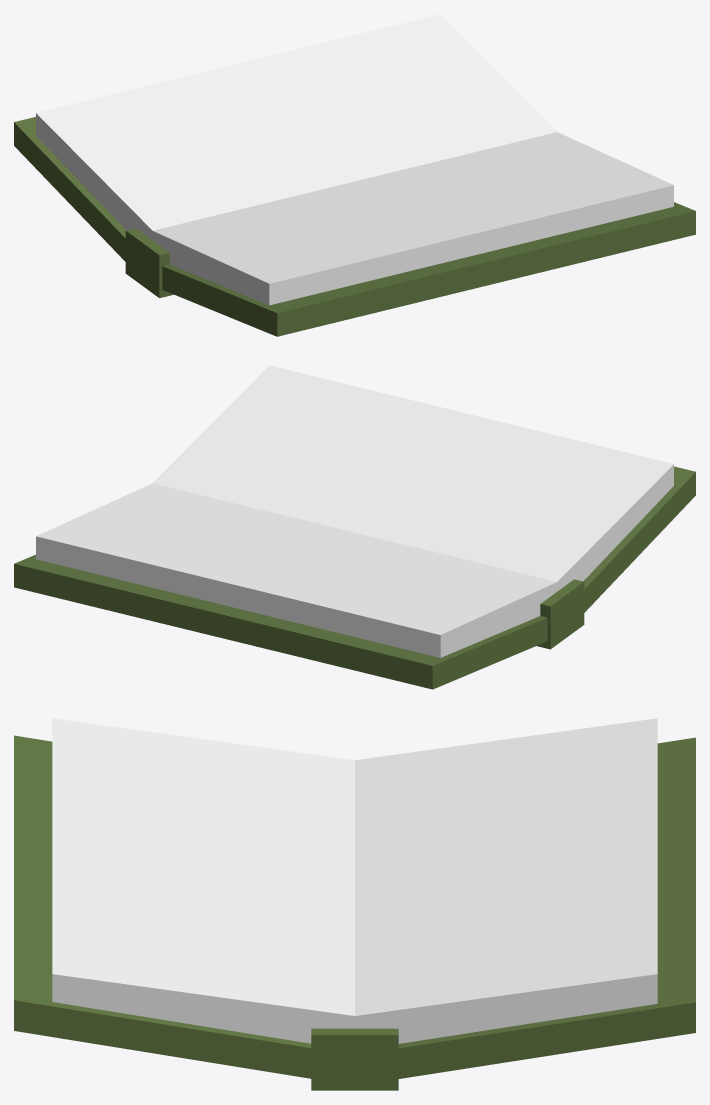
The model's file is bookgreen.fbx.
The picture shows the model from 3 angles, top to bottom: view 1: azimuth 30°, elevation 25°; view 2: azimuth 150°, elevation 25°; view 3: azimuth 270°, elevation 25°; orthographic projection. The views are drawn at different scales.
Parts seen in each view (by area): view 1: Cube, Cube.002, Cube.001; view 2: Cube, Cube.002, Cube.001; view 3: Cube, Cube.002, Cube.001.
Boxes of the visible parts, bbox=[...] form: Cube: bbox=[36, 14, 673, 305]; Cube.002: bbox=[14, 117, 695, 336]; Cube.001: bbox=[125, 228, 173, 298]; Cube: bbox=[36, 365, 673, 657]; Cube.002: bbox=[14, 466, 695, 689]; Cube.001: bbox=[537, 579, 584, 649]; Cube: bbox=[52, 718, 657, 1043]; Cube.002: bbox=[14, 735, 695, 1078]; Cube.001: bbox=[311, 1028, 398, 1090].
Bounding box in the file's own units: 382 × 73.22 × 410.
